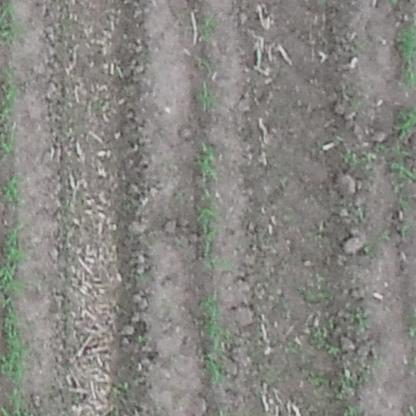corn: (2, 223, 25, 386), (195, 205, 234, 273), (195, 286, 230, 352), (191, 139, 223, 182), (2, 63, 15, 154), (195, 79, 221, 115), (196, 11, 222, 47), (392, 99, 416, 137), (199, 356, 228, 386), (2, 169, 25, 205)
